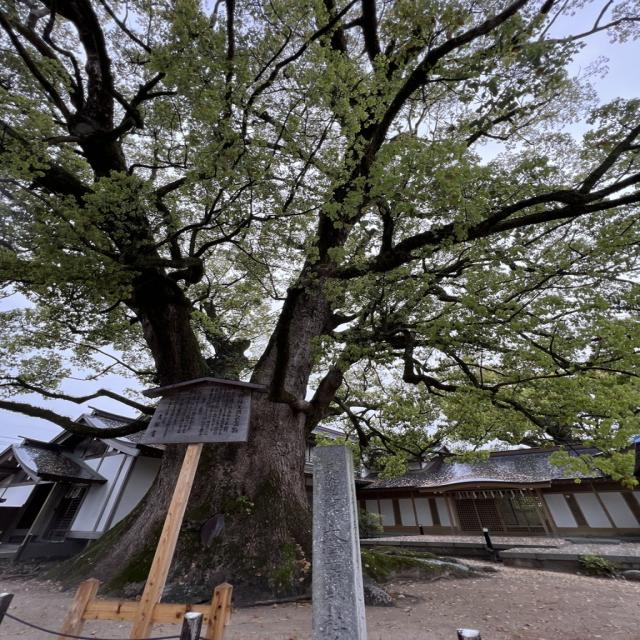camphor: (0, 3, 640, 604)
